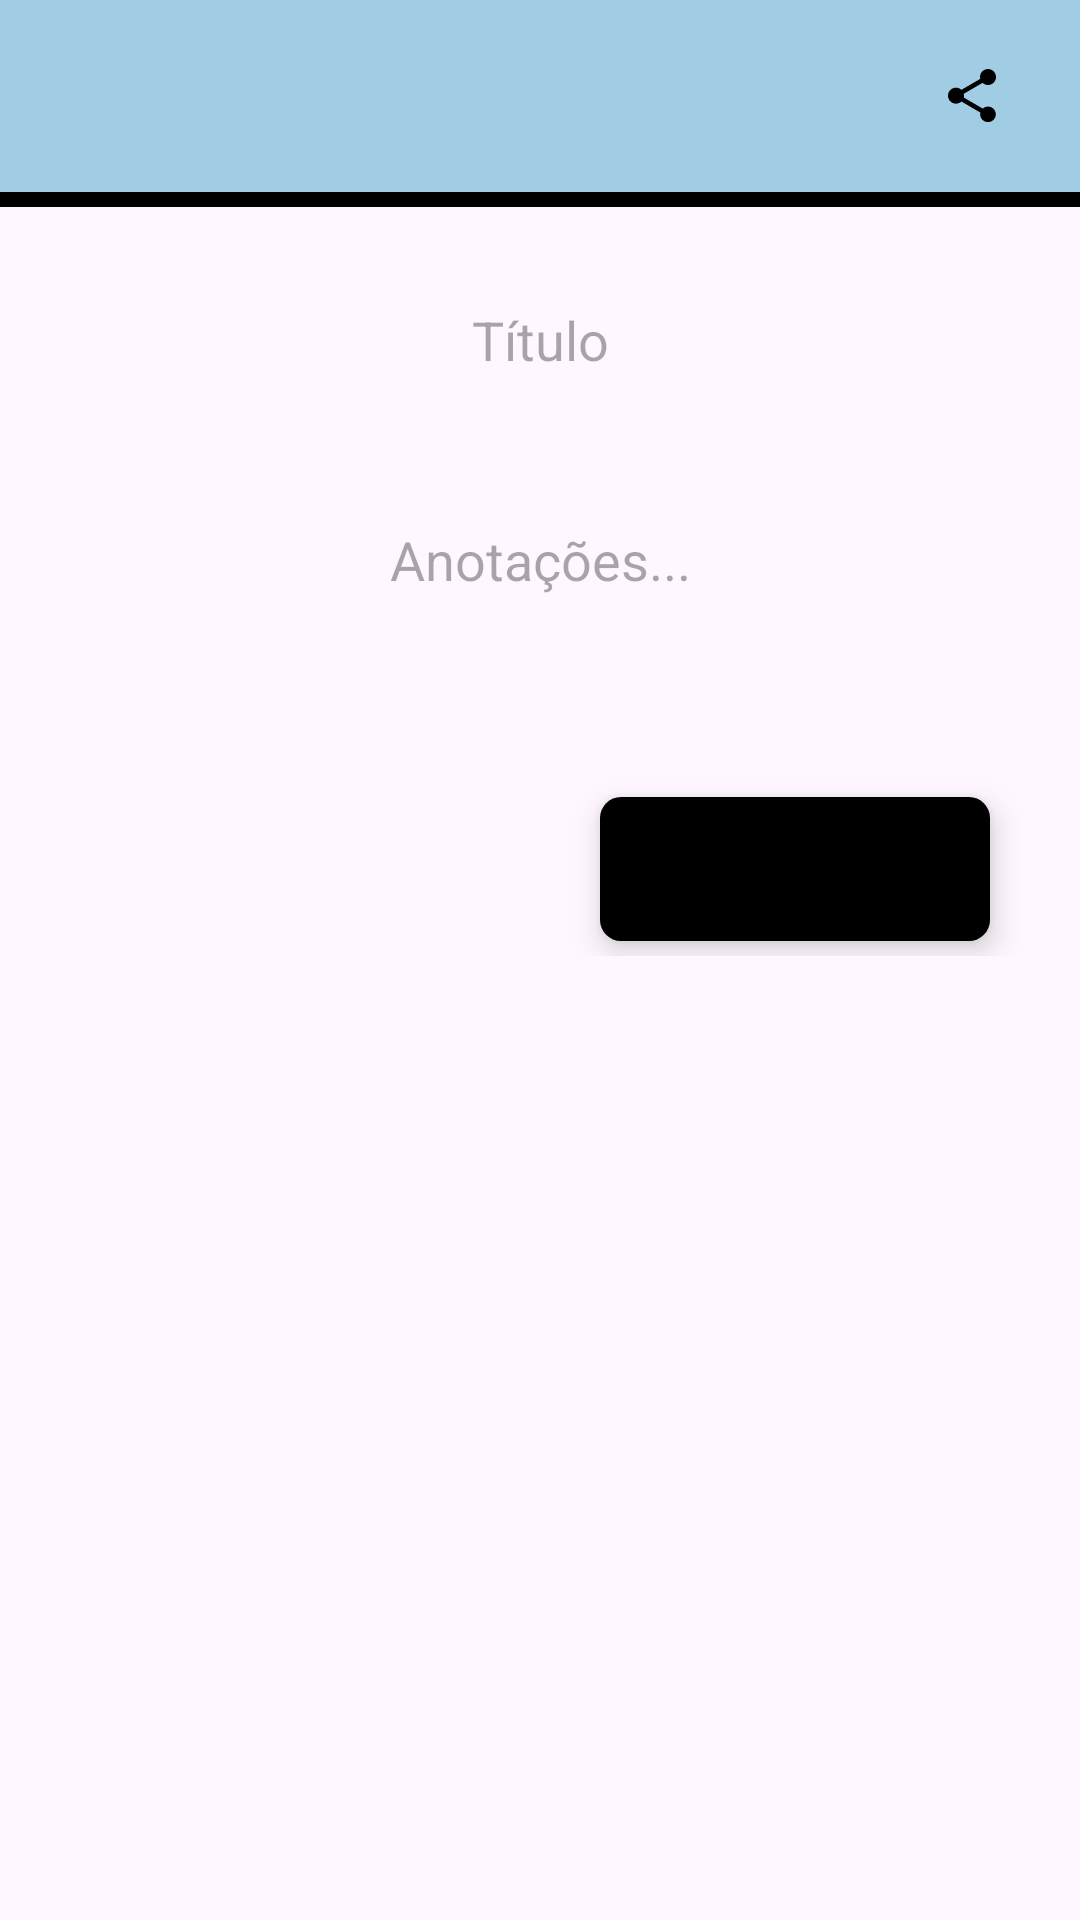

Point at icon controls on the screen. Image size 1080w x 1920h, points as (x=x, y=y).
Compartilhar com o psicólogo: (x=972, y=95)
